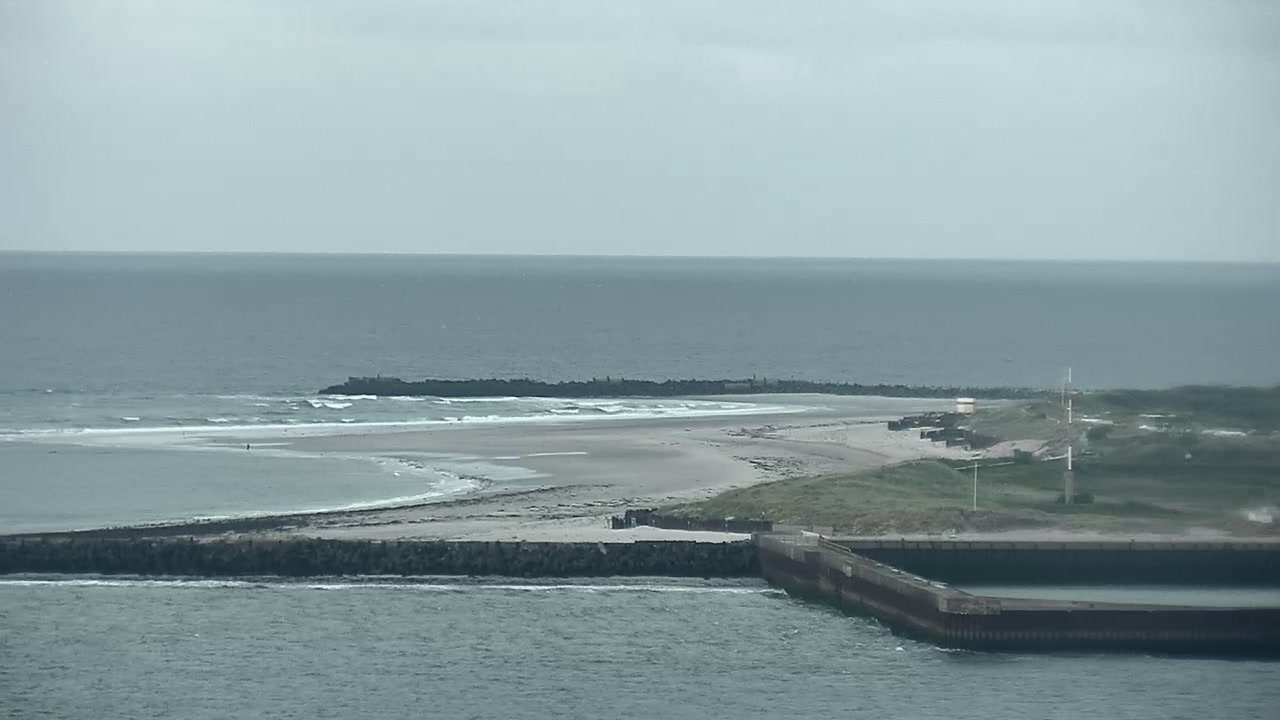human: (246, 443, 251, 453)
